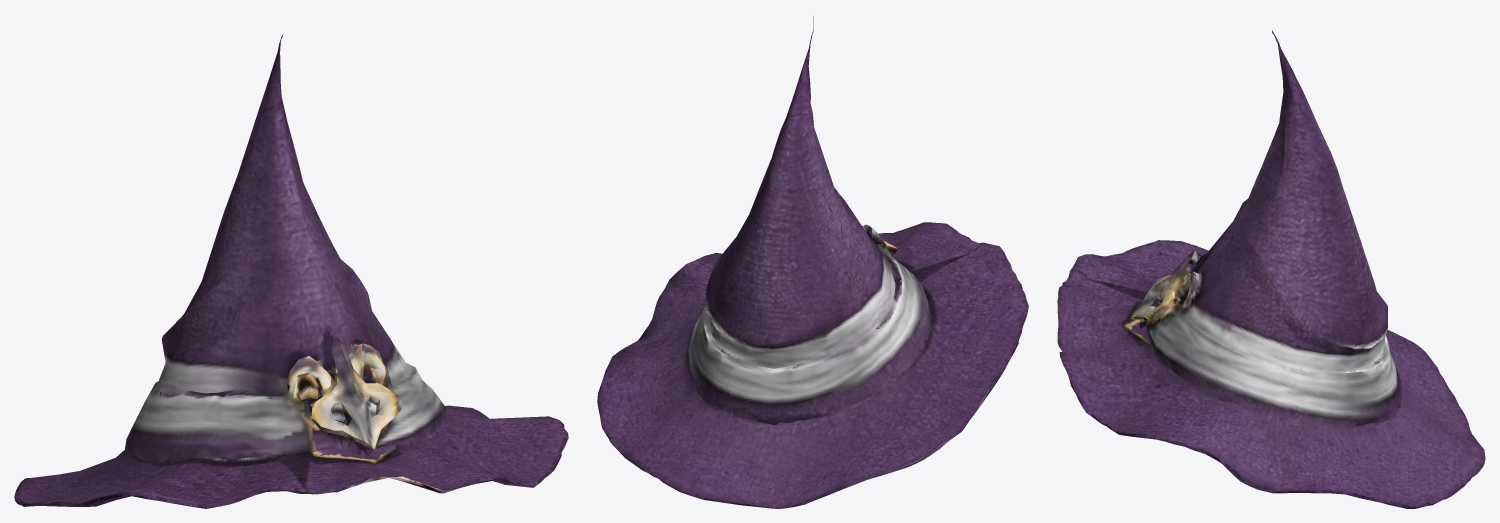
The model's file is item_6hat3.glb.
3 renders of one model, left to right at view 1: azimuth 30°, elevation 25°; view 2: azimuth 150°, elevation 25°; view 3: azimuth 270°, elevation 25°, orthographic. The views are drawn at different scales.
Visible parts, largest first — view 1: equipment_6hat3; view 2: equipment_6hat3; view 3: equipment_6hat3.
Part boxes in pixels (bbox=[...]): equipment_6hat3: bbox=[14, 34, 568, 508]; equipment_6hat3: bbox=[597, 16, 1028, 508]; equipment_6hat3: bbox=[1057, 30, 1485, 508].
Bounding box in the file's own units: 0.9958 × 1.12 × 0.9923.
Materials: 1 (1 with a texture image).
